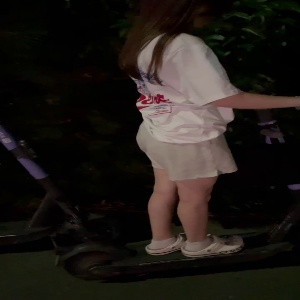human on a scooter: (44, 1, 300, 284)
